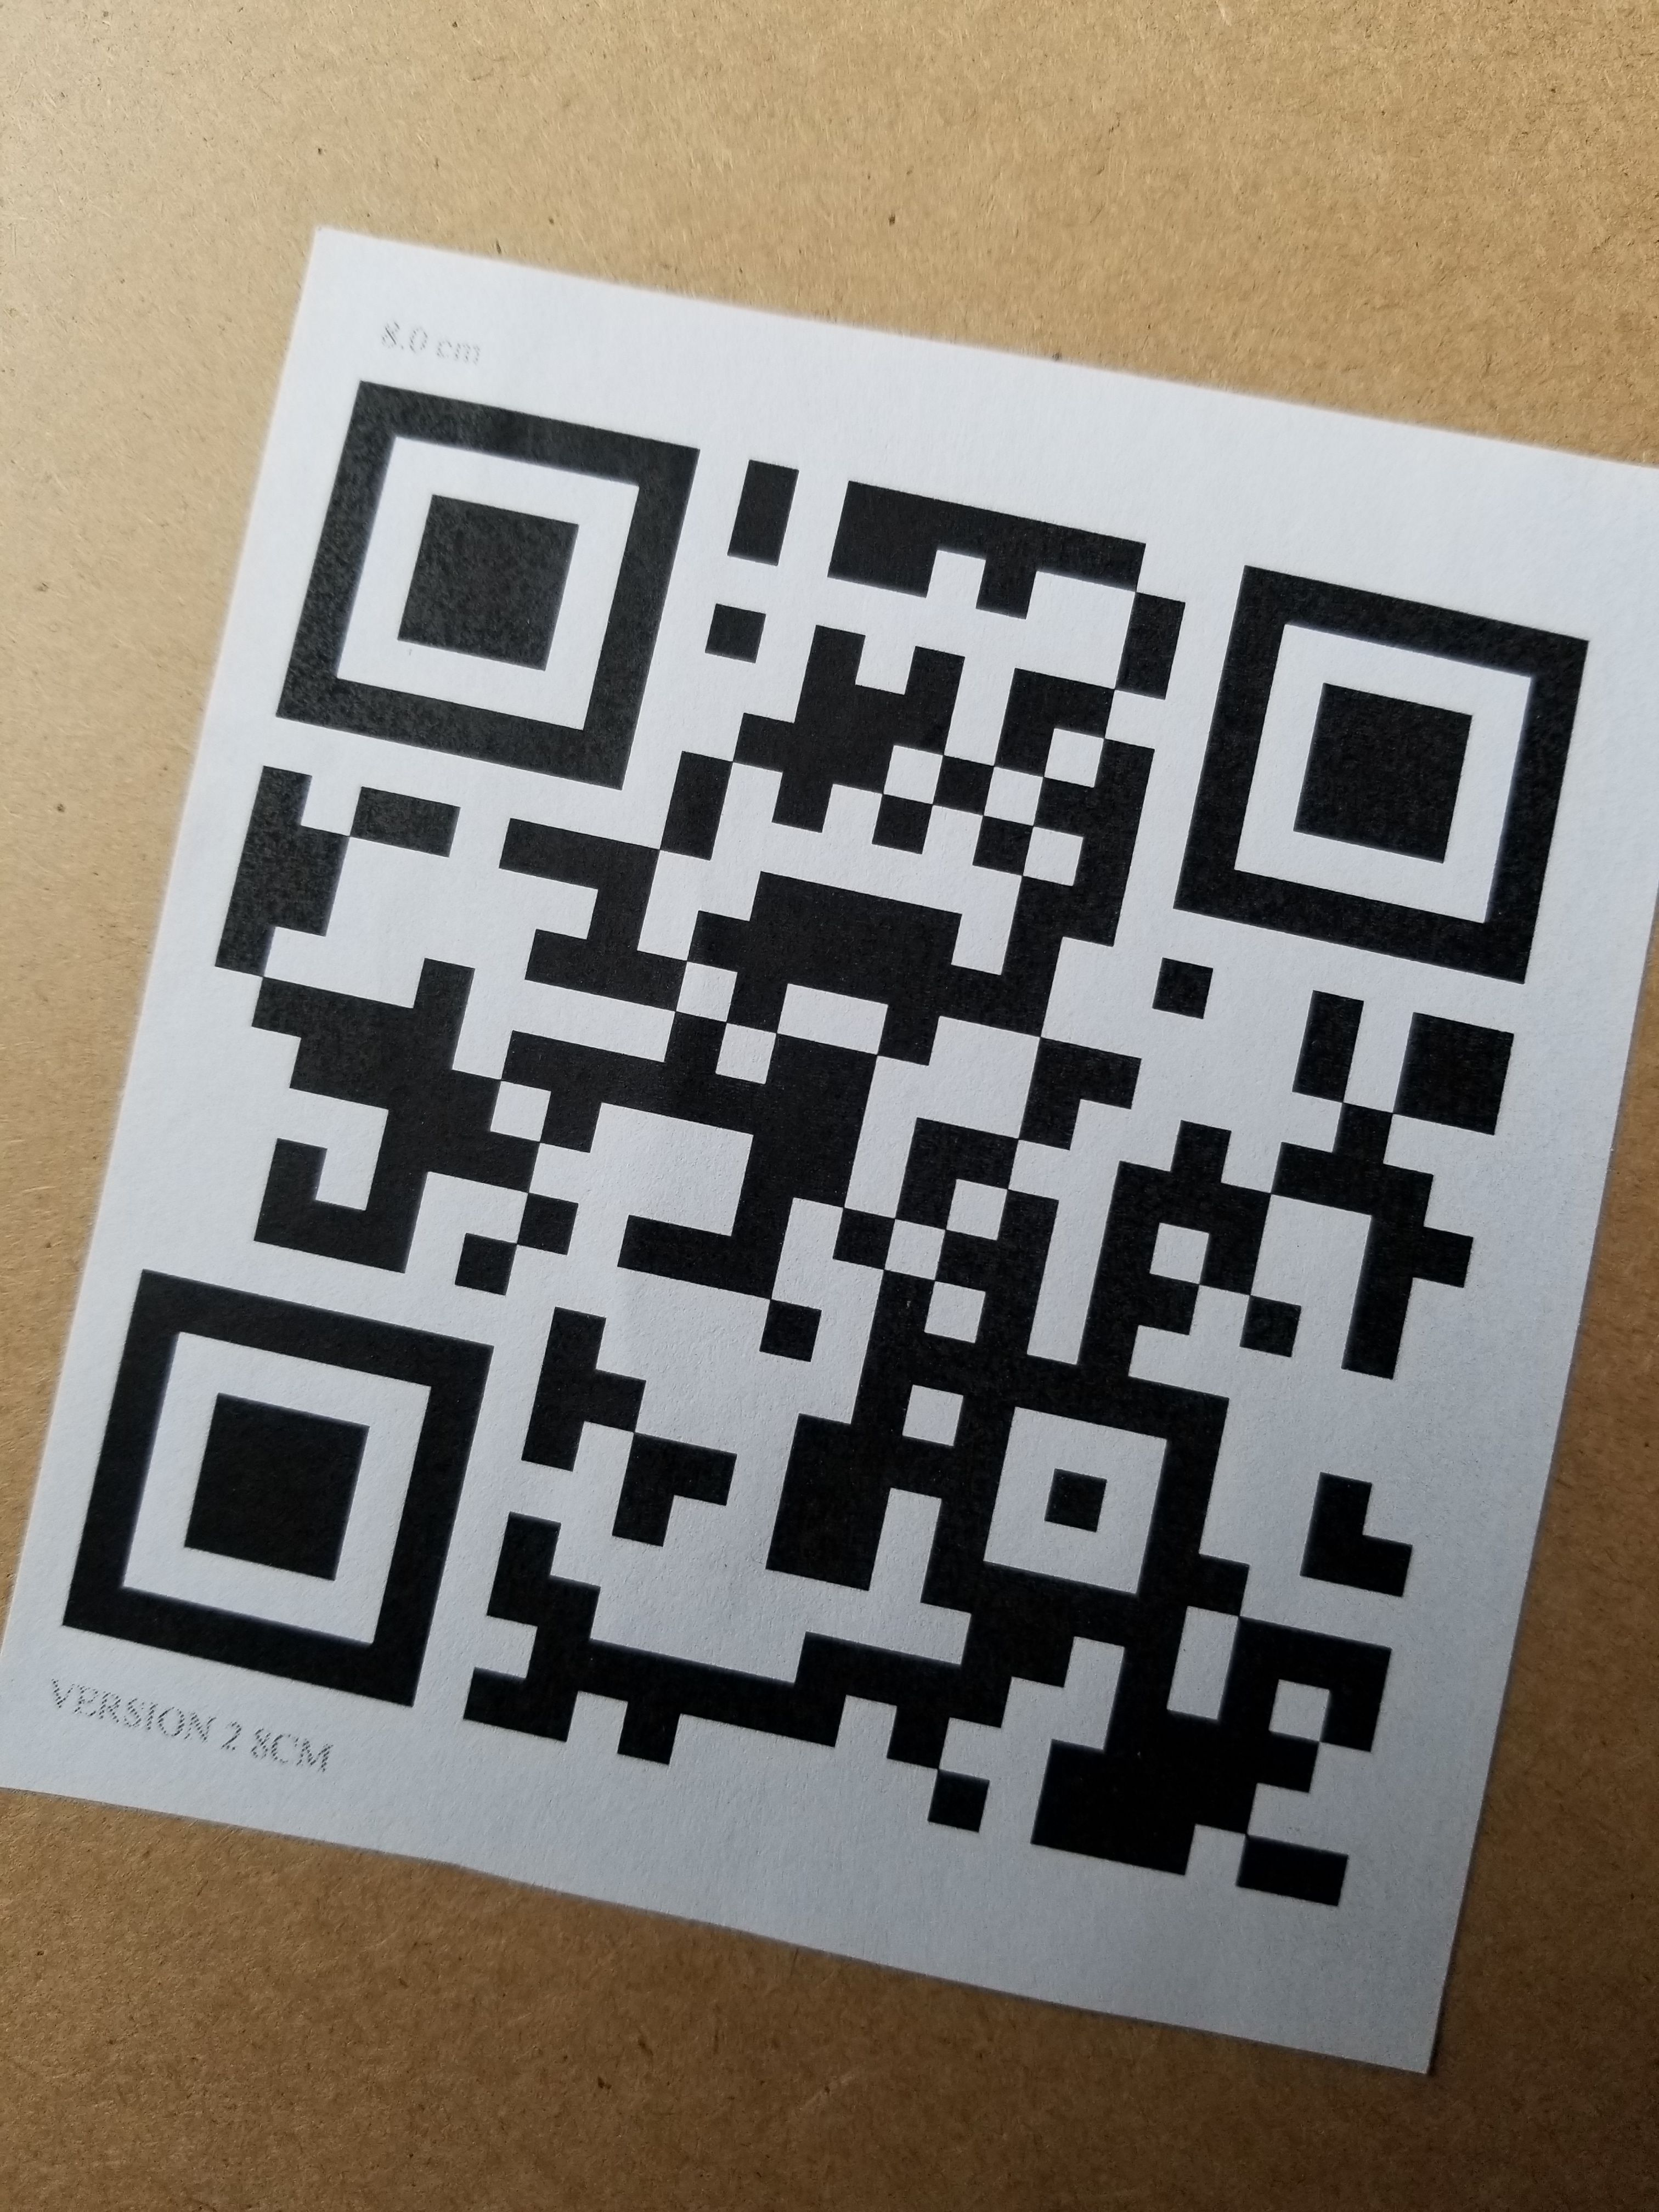QR_CODE: (30, 317, 1614, 1949)
